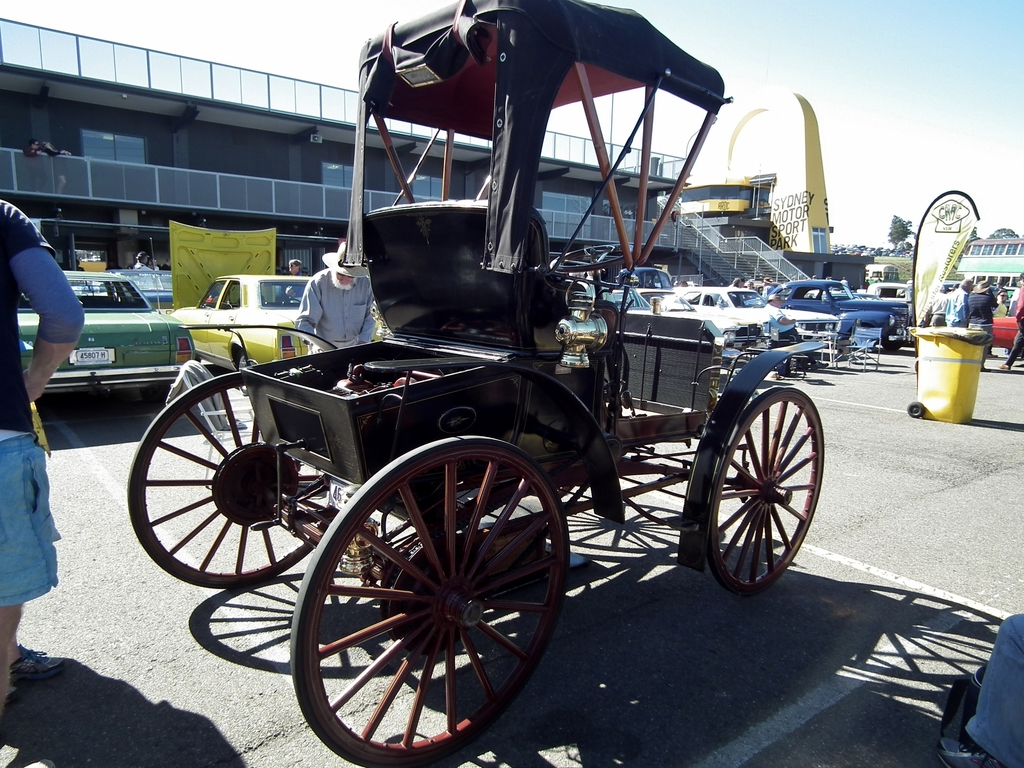Car: (126, 0, 823, 767), (16, 261, 186, 415), (175, 271, 389, 385), (662, 283, 839, 356), (759, 277, 920, 348), (858, 282, 912, 315)
